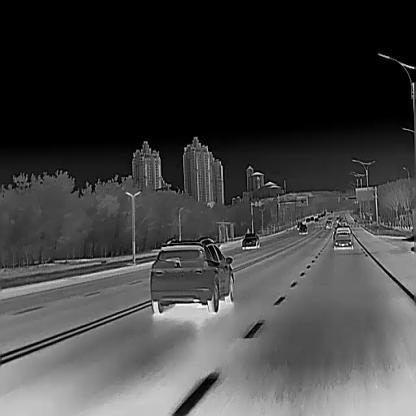car: (149, 236, 234, 313), (333, 224, 353, 249), (241, 233, 259, 249), (298, 224, 307, 234), (325, 220, 331, 228)
